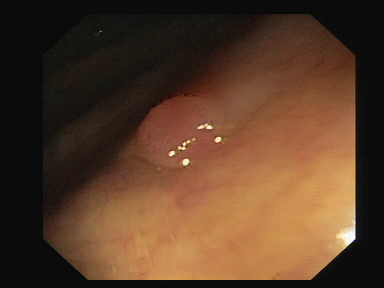polyp: (125, 81, 230, 172)
